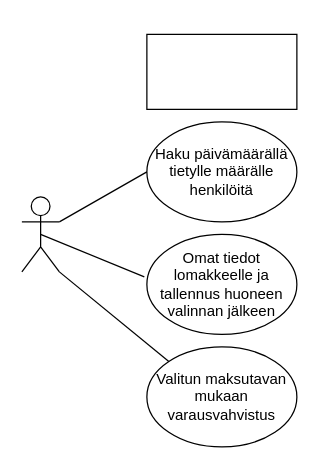
The diagram is 319 pixels wide and 469 high, and some of its shapes have lost their labels. The centre of each missing label's shape, as x and y in pixels:
"Actor" goes at pixel 40 234.
"Asiakas tekee varauksen" goes at pixel 221 71.
